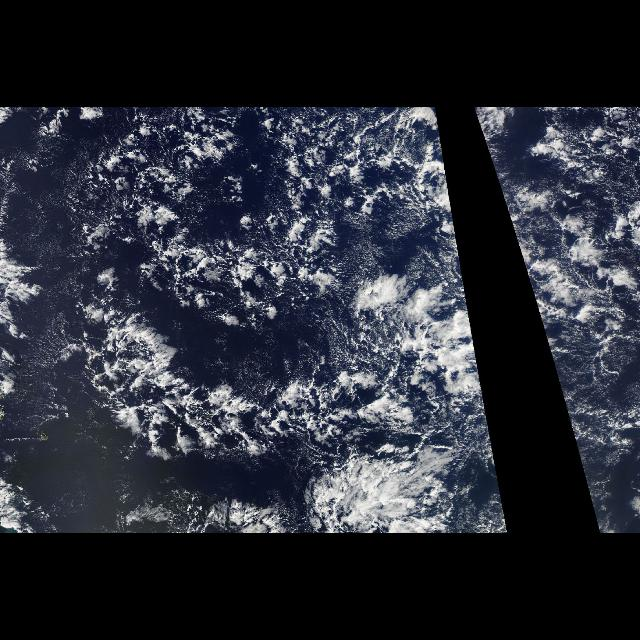Fish: (62, 332, 410, 461), (74, 166, 356, 318)
